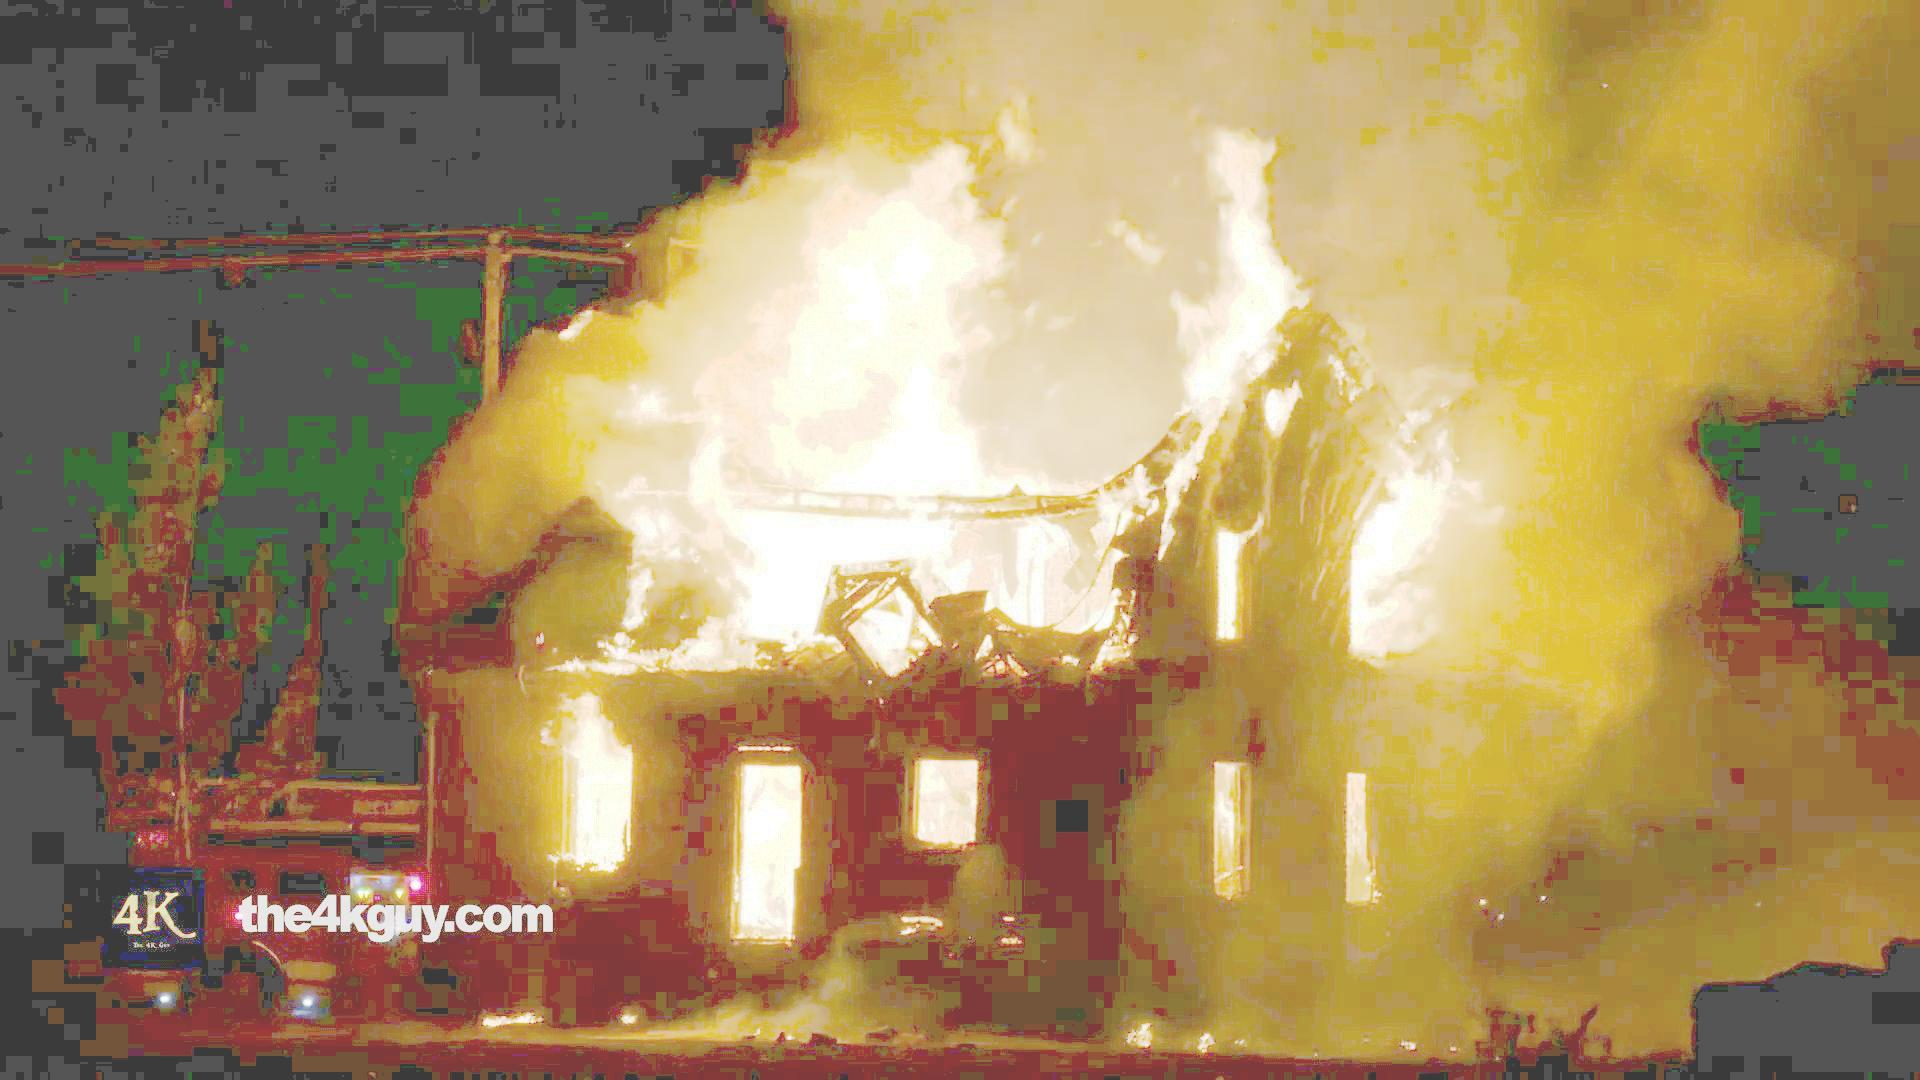fire: (587, 78, 1105, 654), (1145, 117, 1320, 418), (1313, 423, 1523, 638), (717, 764, 815, 948), (567, 720, 630, 872)
